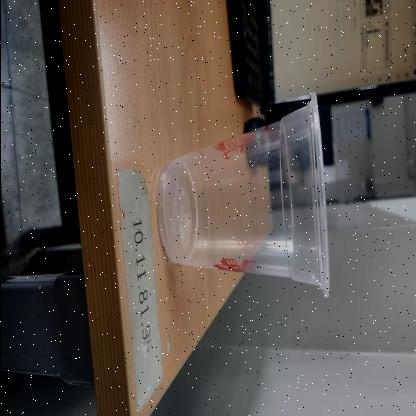Others: (156, 92, 330, 300)
